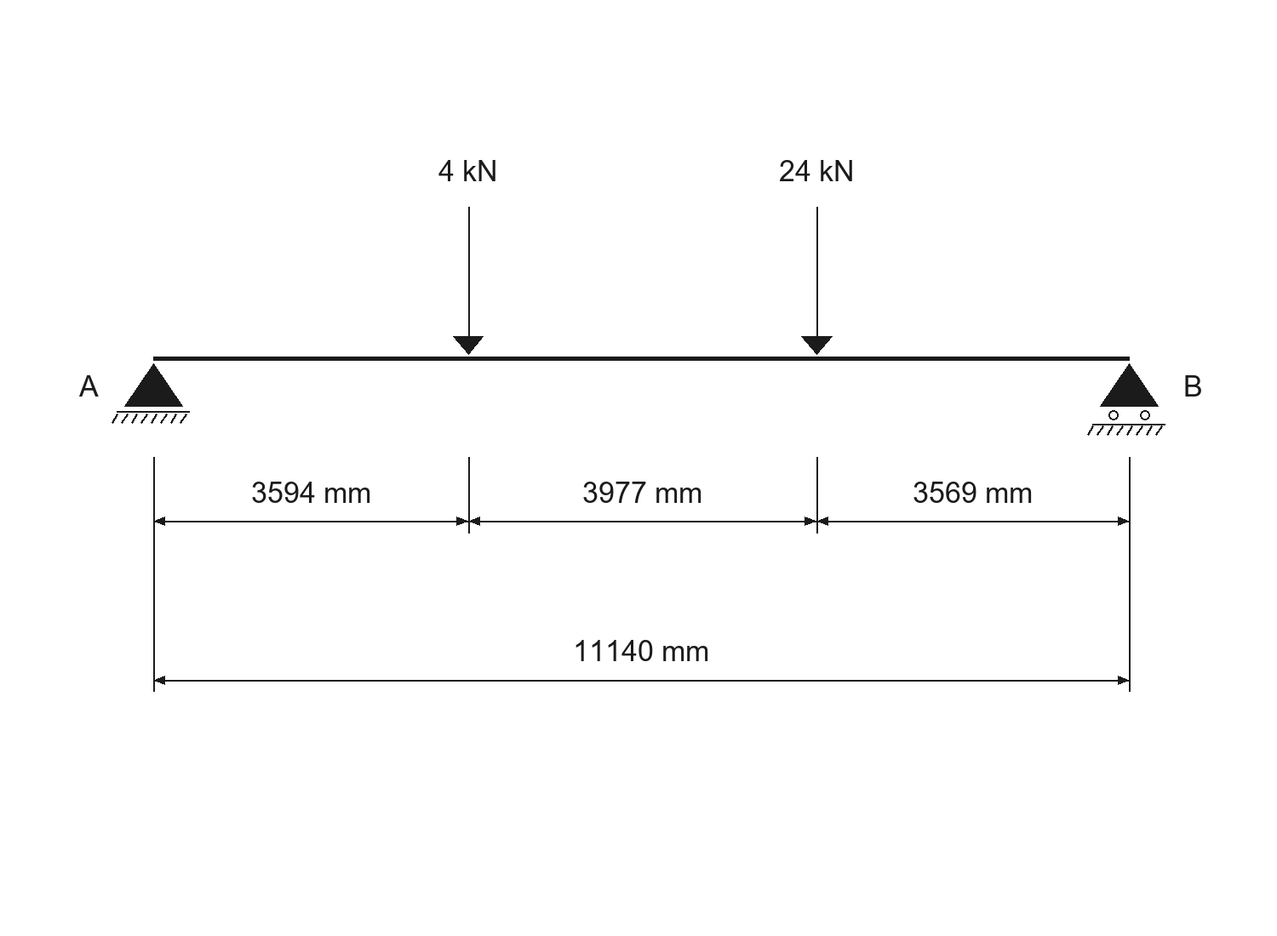pin_support: (112, 363, 190, 424)
point_load: (801, 207, 833, 355), (453, 207, 484, 355)
roller_support: (1087, 363, 1165, 436)
